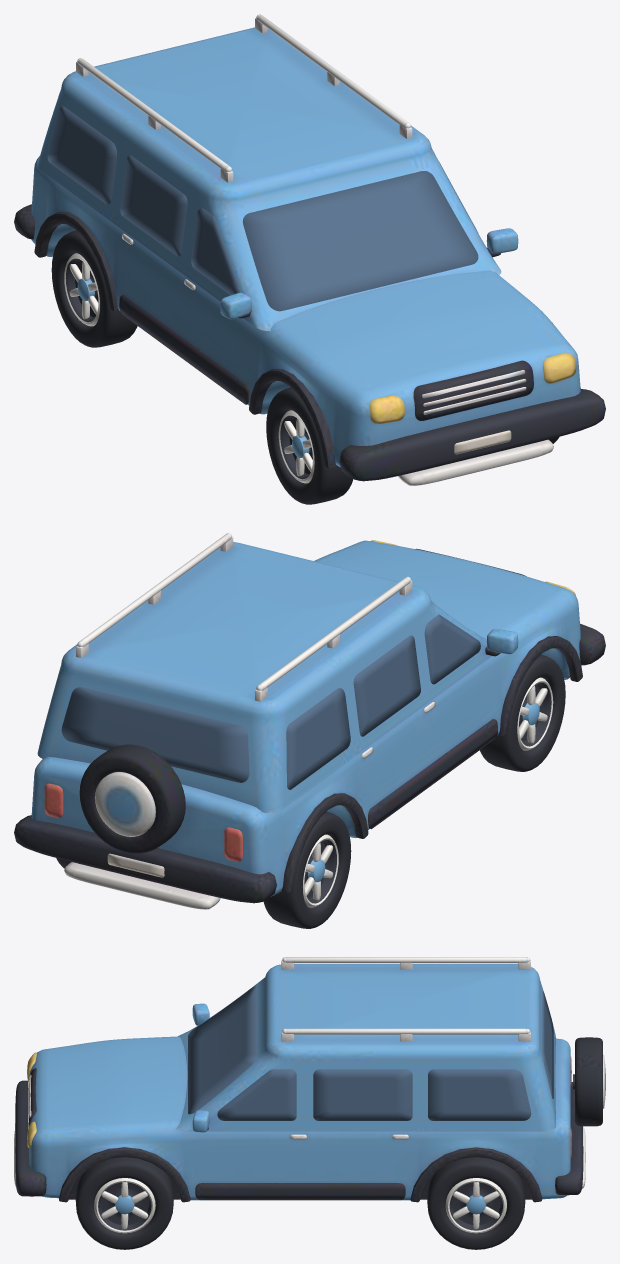
File: car-suv.glb
3 renders of one model, top to bottom at view 1: azimuth 30°, elevation 25°; view 2: azimuth 150°, elevation 25°; view 3: azimuth 270°, elevation 25°, orthographic. The views are drawn at different scales.
Parts seen in each view (by area): view 1: suv_body, suv_windows, suv_wheel_fr, suv_wheel_rr; view 2: suv_body, suv_windows, suv_wheel_rr, suv_wheel_fr; view 3: suv_body, suv_windows, suv_wheel_fl, suv_wheel_rl.
Part boxes in pixels (x1,y1,x2,y2): suv_body: (14,14,605,485); suv_windows: (47,106,478,311); suv_wheel_fr: (266,387,353,504); suv_wheel_rr: (51,230,137,347); suv_body: (14,533,605,909); suv_windows: (61,614,480,789); suv_wheel_rr: (263,811,351,928); suv_wheel_fr: (479,654,565,771); suv_body: (14,957,605,1202); suv_windows: (188,986,553,1120); suv_wheel_fl: (75,1157,173,1249); suv_wheel_rl: (427,1157,525,1249).
Bounding box in the file's own units: 2.18 × 1.82 × 4.65.
18 materials, 1 textured.
